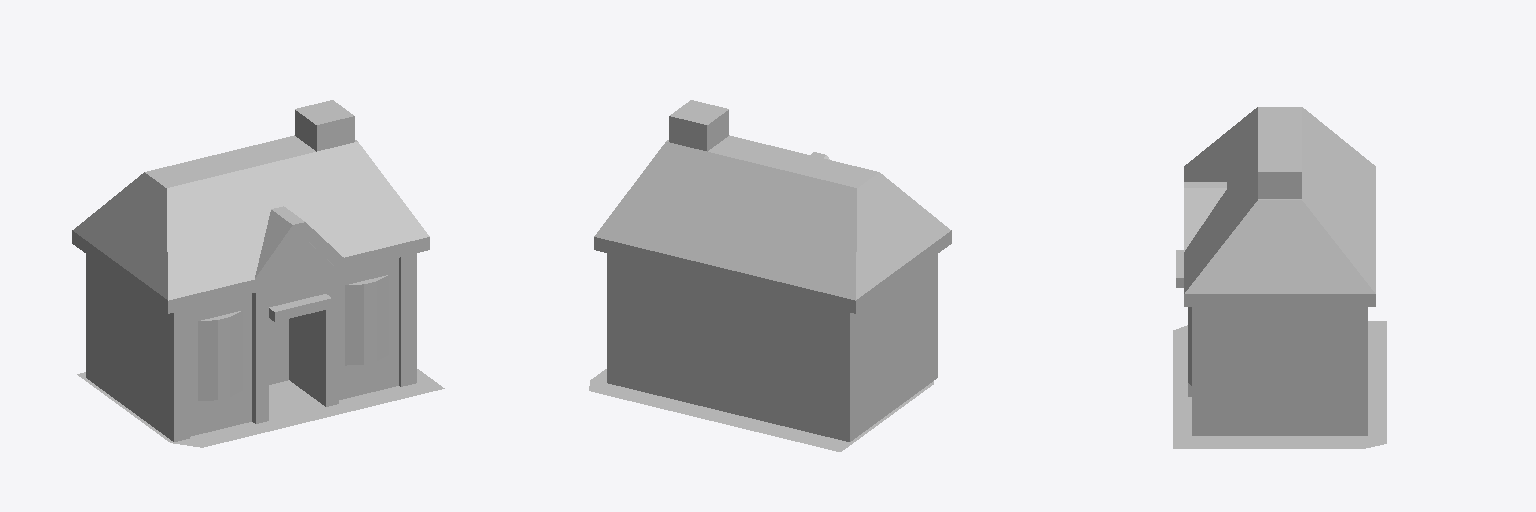
The model's file is Accumula Town House.obj.
3 views of the same model, side by side, from view 1: azimuth 30°, elevation 25°; view 2: azimuth 150°, elevation 25°; view 3: azimuth 270°, elevation 25° (orthographic).
Parts seen in each view (by area): view 1: polygon3, polygon2, polygon1; view 2: polygon3, polygon2, polygon1; view 3: polygon3, polygon2, polygon1.
Part boxes in pixels (x1,y1,x2,y2): polygon3: (72,135,429,441); polygon2: (95,100,398,436); polygon1: (77,369,444,447); polygon3: (594,135,951,441); polygon2: (623,100,928,437); polygon1: (589,369,933,451); polygon3: (1176,107,1375,435); polygon2: (1188,154,1349,435); polygon1: (1173,321,1386,448).
Size of the model in its own units: 85.04 by 75.89 by 58.